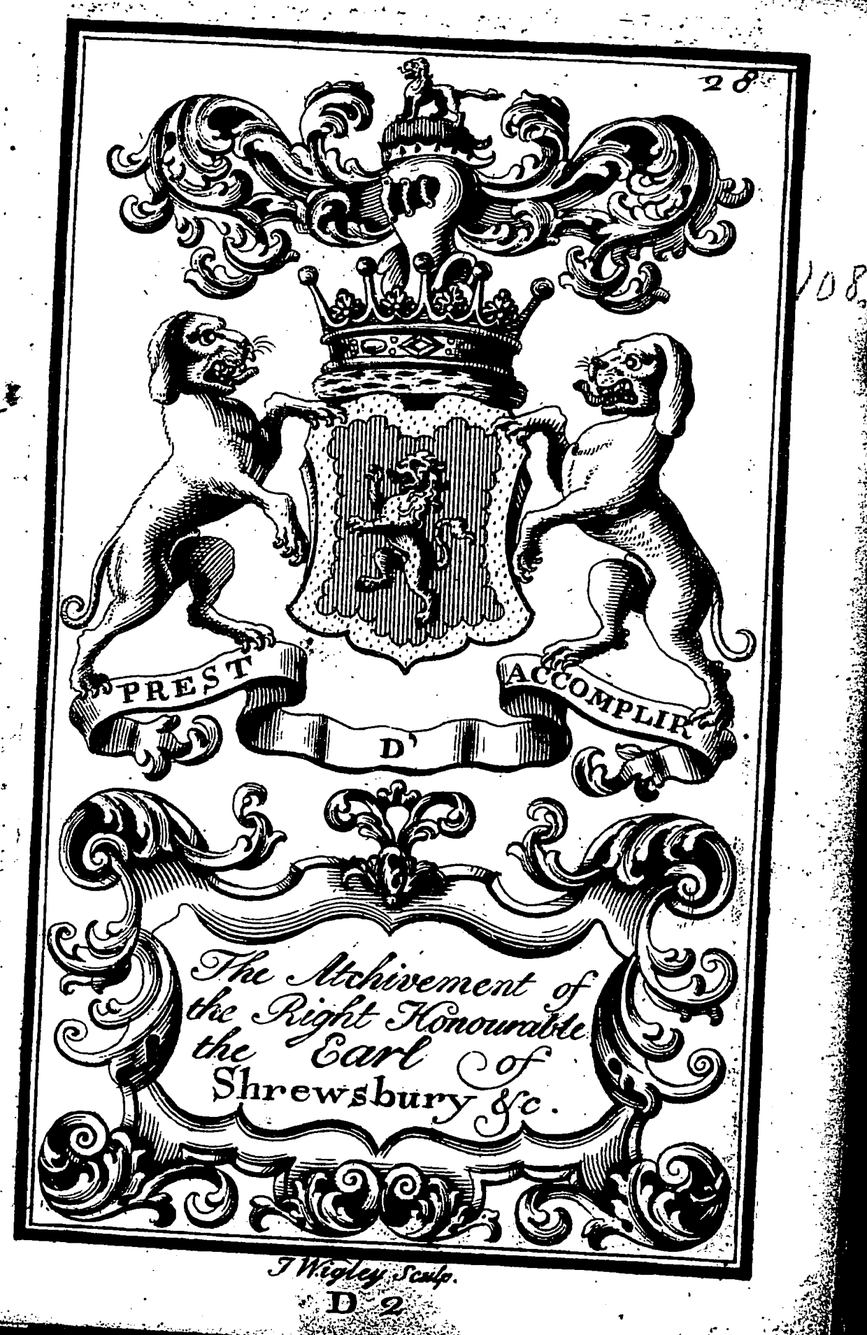coat_of_arms: (109, 52, 767, 765)
